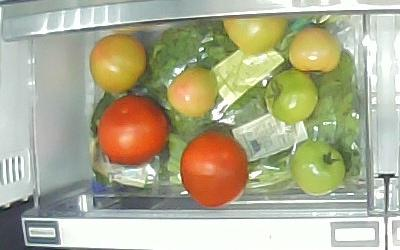tomato: (180, 132, 249, 208), (98, 94, 172, 164), (90, 34, 146, 93), (265, 69, 318, 123), (292, 142, 345, 196), (223, 15, 289, 55), (167, 66, 218, 117), (289, 26, 341, 71)
